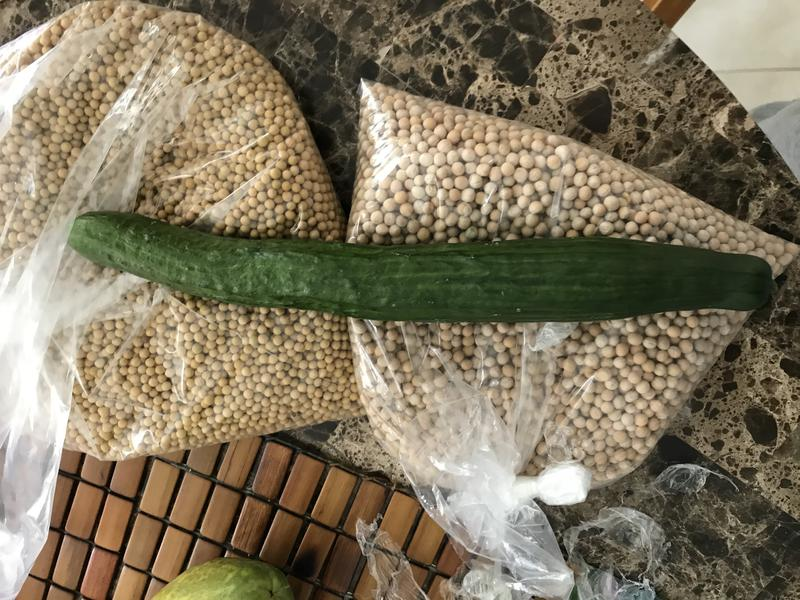cucumber: (62, 199, 784, 342)
